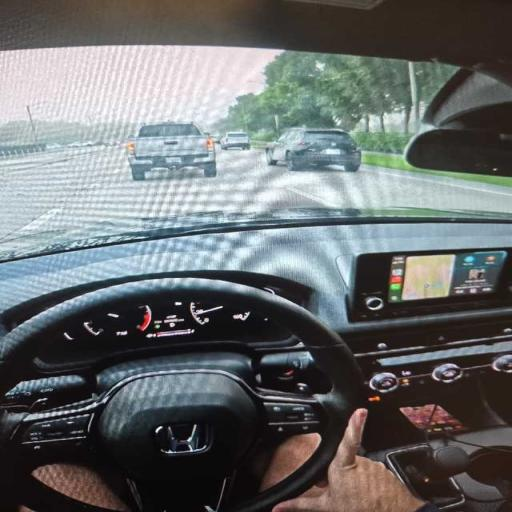car: (0, 0, 511, 511), (265, 128, 361, 171), (220, 132, 250, 150), (47, 143, 61, 150), (105, 140, 120, 146), (81, 141, 95, 147), (68, 142, 83, 147), (212, 136, 221, 143)
lane: (0, 148, 511, 238)
person: (273, 409, 438, 511)
truck: (126, 122, 216, 180)
